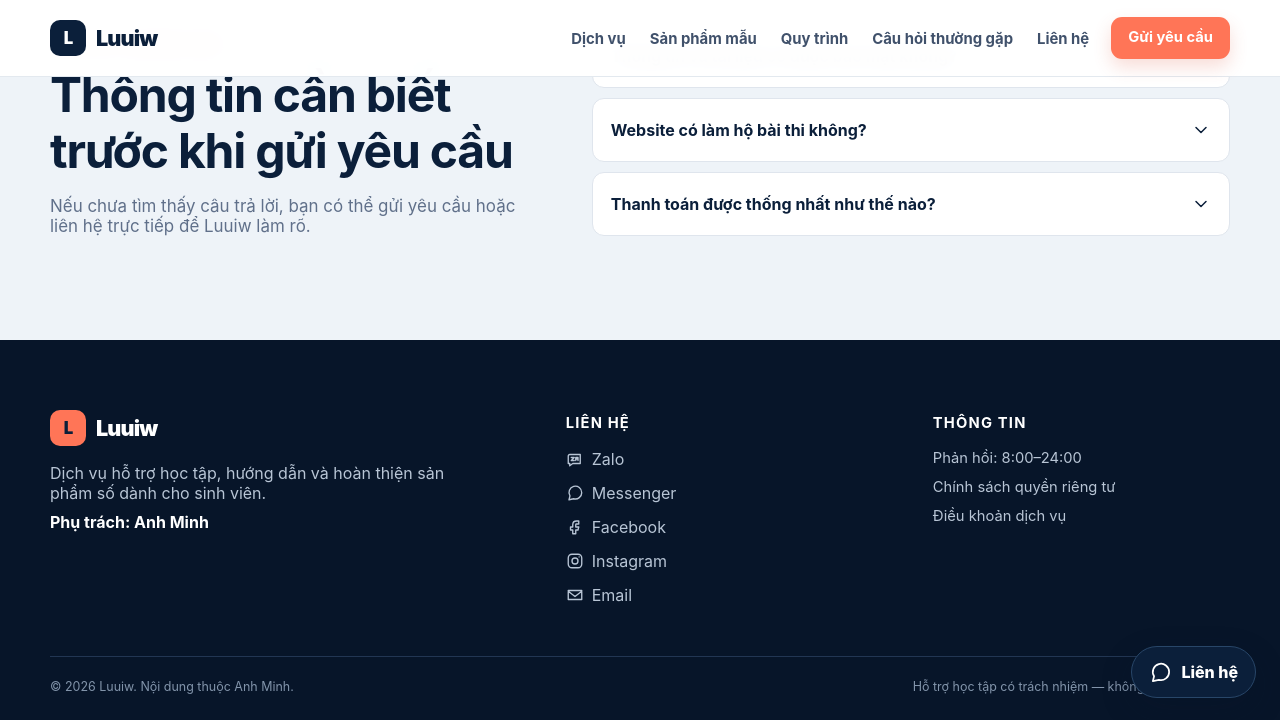
Test case: App › mở khu vực chính sách quyền riêng tư
(page scrolled)
Click the link "Chính sách quyền riêng tư": coordinates (1024, 487) [933, 478, 1115, 496]
(page scrolled)
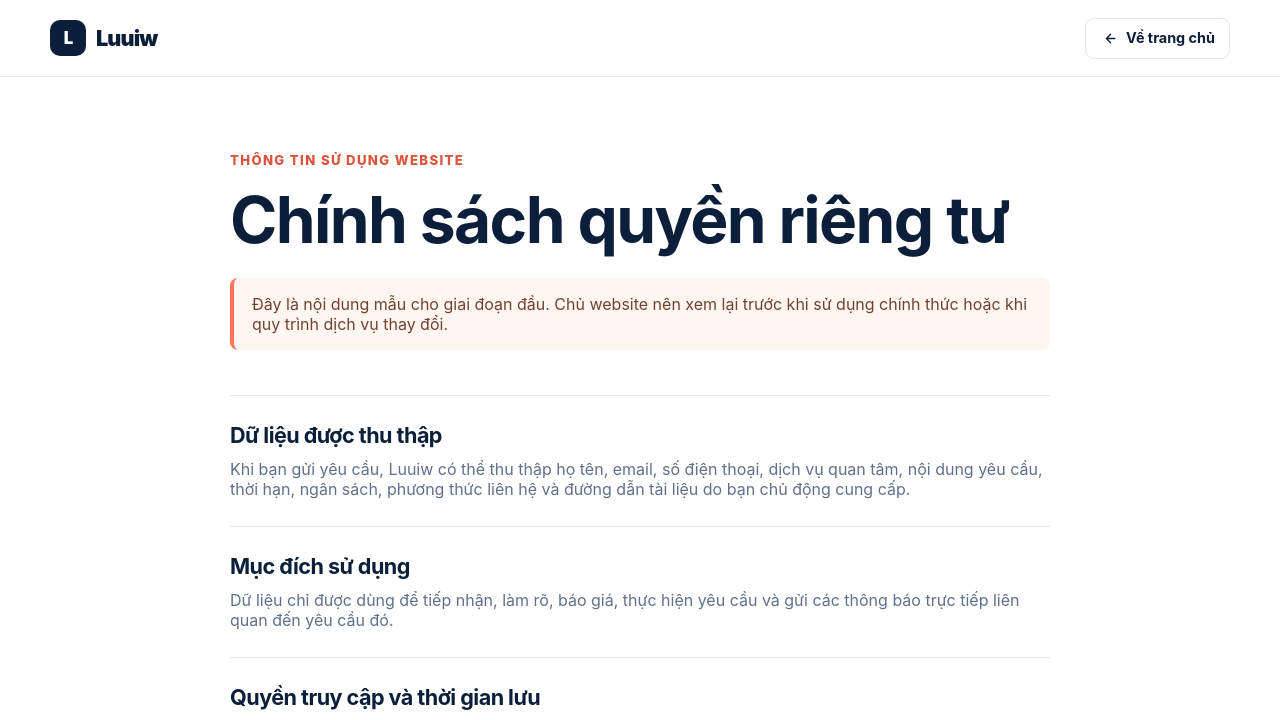
Check: the heading "Chính sách quyền riêng tư" is shown, box [230, 182, 1050, 258]
